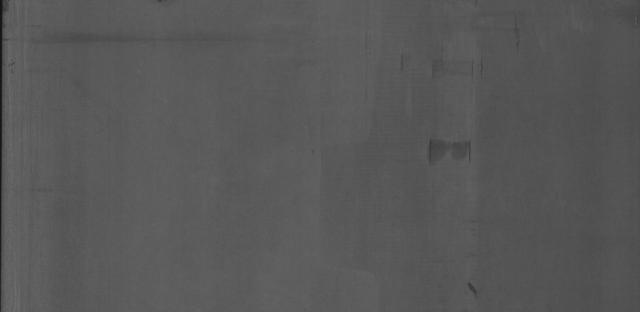rolled_pit: (415, 126, 487, 172)
